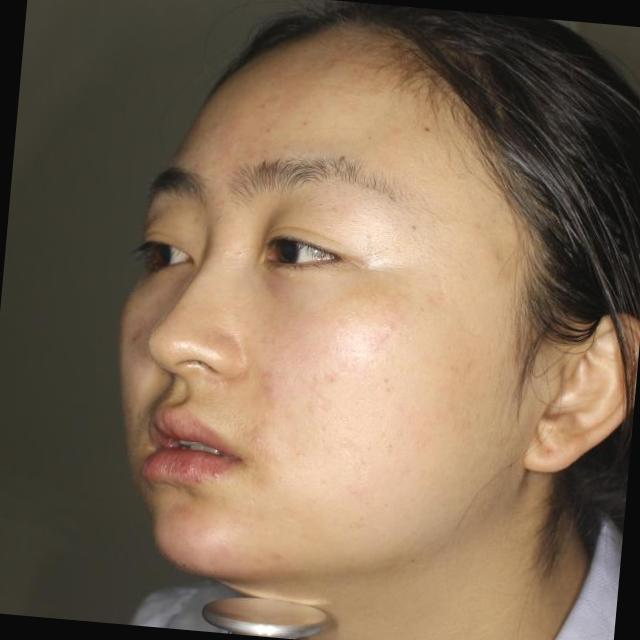acne: (255, 364, 288, 403)
